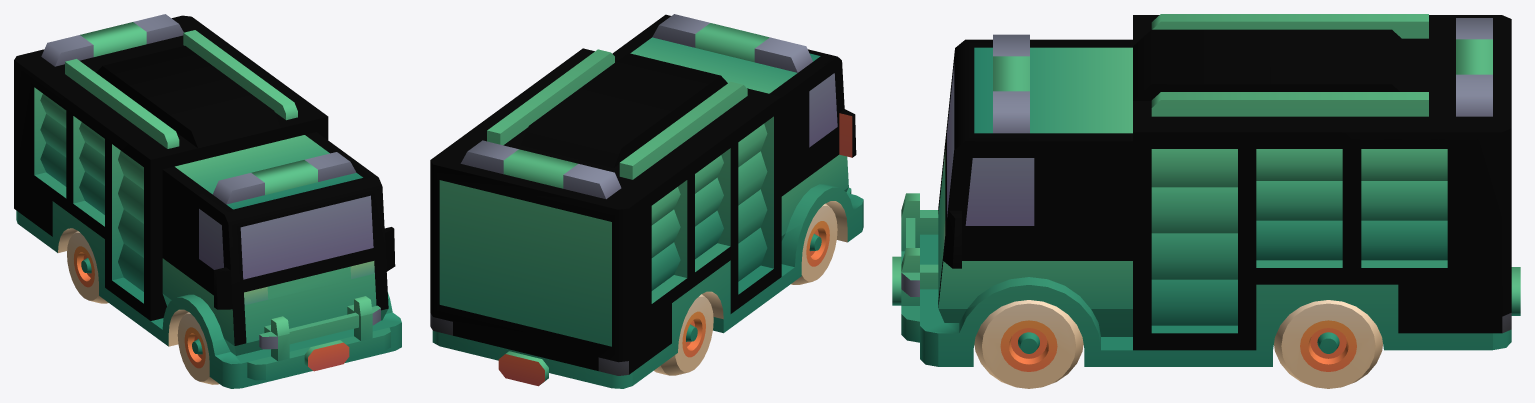
The model's file is firetruck.glb.
3 renders of one model, left to right at view 1: azimuth 30°, elevation 25°; view 2: azimuth 150°, elevation 25°; view 3: azimuth 270°, elevation 25°, orthographic. The views are drawn at different scales.
Parts seen in each view (by area): view 1: body, grill, wheel-front-right, wheel-back-right; view 2: body, wheel-back-right, wheel-front-right; view 3: body, wheel-front-left, wheel-back-left, grill.
Boxes of the visible parts, x1,y1,x2,y2 form: body: (14, 14, 401, 388); grill: (247, 296, 390, 380); wheel-front-right: (177, 312, 219, 384); wheel-back-right: (67, 230, 108, 303); body: (430, 14, 863, 388); wheel-back-right: (654, 294, 713, 375); wheel-front-right: (791, 203, 837, 284); body: (920, 14, 1520, 366); wheel-front-left: (974, 300, 1083, 388); wheel-back-left: (1274, 300, 1382, 388); grill: (892, 193, 938, 342).
Size of the model in its own units: 1.5 by 1.7 by 3.4.
1 material, 1 textured.
